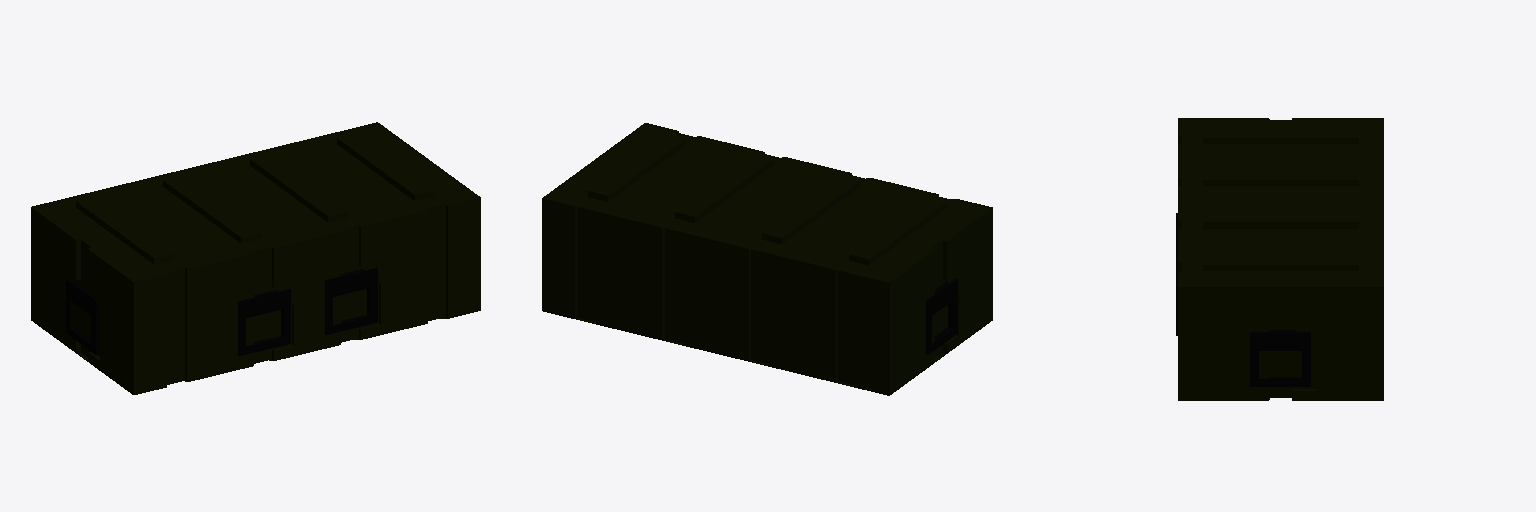
The model's file is Military_Supplies_Container.obj.
The picture shows the model from 3 angles: view 1: azimuth 30°, elevation 25°; view 2: azimuth 150°, elevation 25°; view 3: azimuth 270°, elevation 25°; orthographic projection.
Visible parts, largest first — view 1: Military_Supplies_Container_Cube.024; view 2: Military_Supplies_Container_Cube.024; view 3: Military_Supplies_Container_Cube.024.
Boxes of the visible parts, x1,y1,x2,y2 form: Military_Supplies_Container_Cube.024: [31, 122, 480, 394]; Military_Supplies_Container_Cube.024: [542, 123, 992, 395]; Military_Supplies_Container_Cube.024: [1176, 118, 1383, 400].
Size of the model in its own units: 1.36 by 0.4434 by 0.6994.